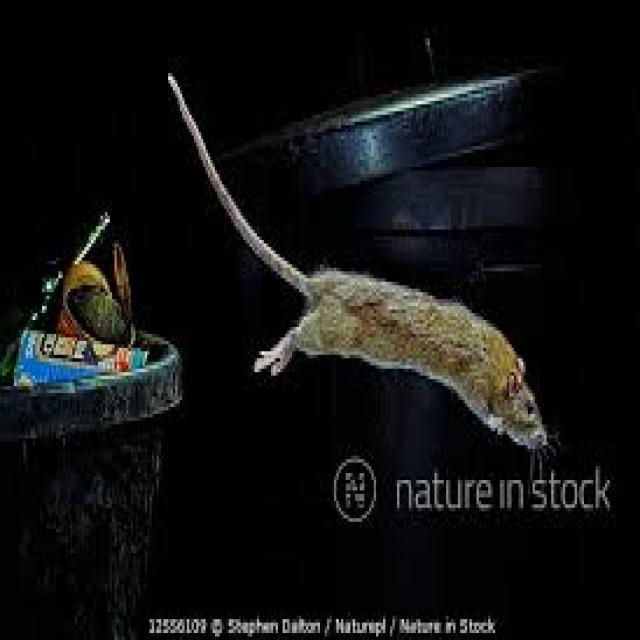Rat: (161, 71, 569, 454)
